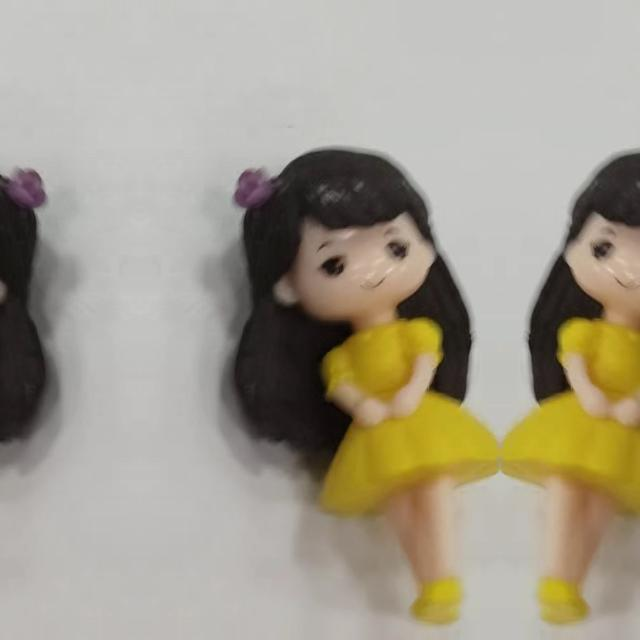woman dress: (275, 291, 497, 624), (503, 290, 640, 623), (0, 290, 5, 623)
woman head: (234, 143, 476, 333), (523, 143, 640, 333), (0, 143, 46, 333)
